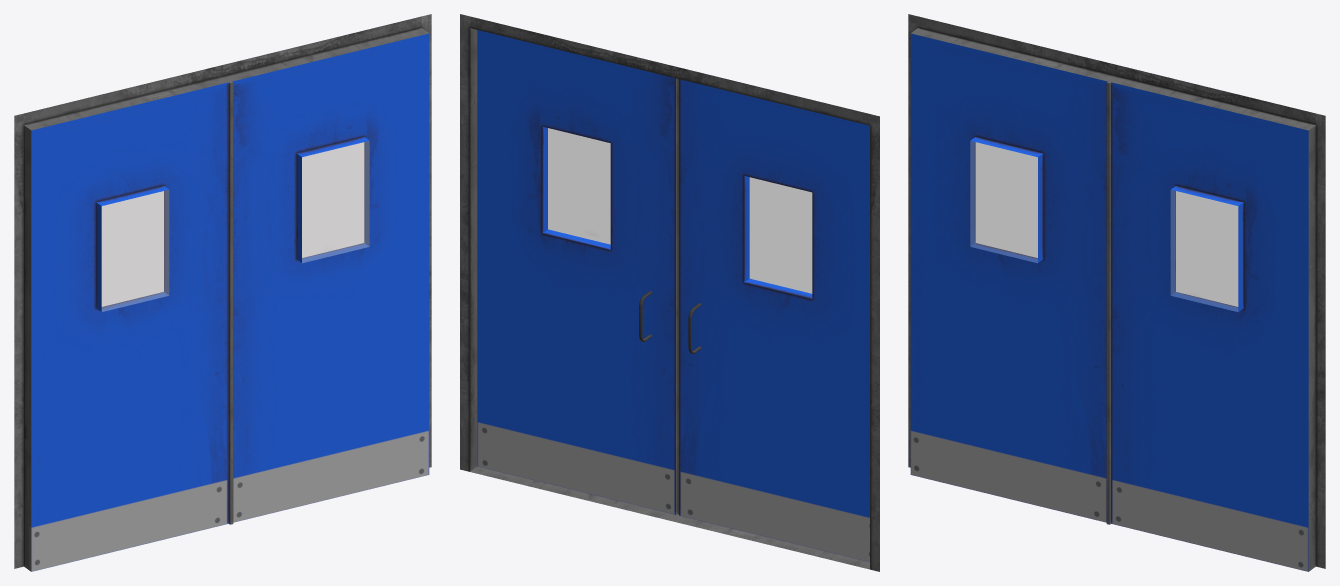
The model's file is double_doors.glb.
3 renders of one model, left to right at view 1: azimuth 30°, elevation 25°; view 2: azimuth 150°, elevation 25°; view 3: azimuth 330°, elevation 25°, orthographic.
Visible parts, largest first — view 1: SM_theatre_door; view 2: SM_theatre_door; view 3: SM_theatre_door.
Part boxes in pixels (<box>): SM_theatre_door: <box>14,14,431,571</box>; SM_theatre_door: <box>460,14,879,571</box>; SM_theatre_door: <box>908,14,1325,571</box>.
Bounding box in the file's own units: 335 × 348 × 22.1.
1 material, 1 textured.
